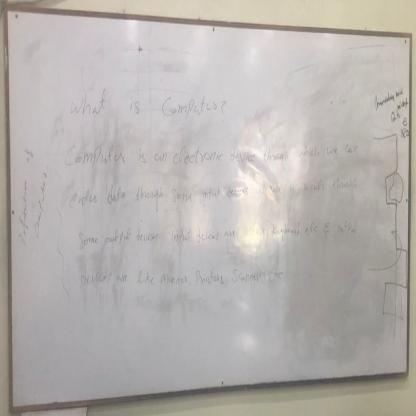Handwritten text: (66, 215, 363, 254), (62, 133, 362, 171), (60, 174, 360, 209), (65, 79, 222, 127), (63, 262, 270, 295)
Whiteboard: (0, 8, 412, 414)
